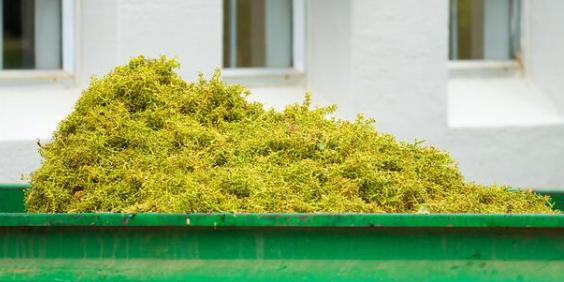organic: (27, 52, 551, 217)
